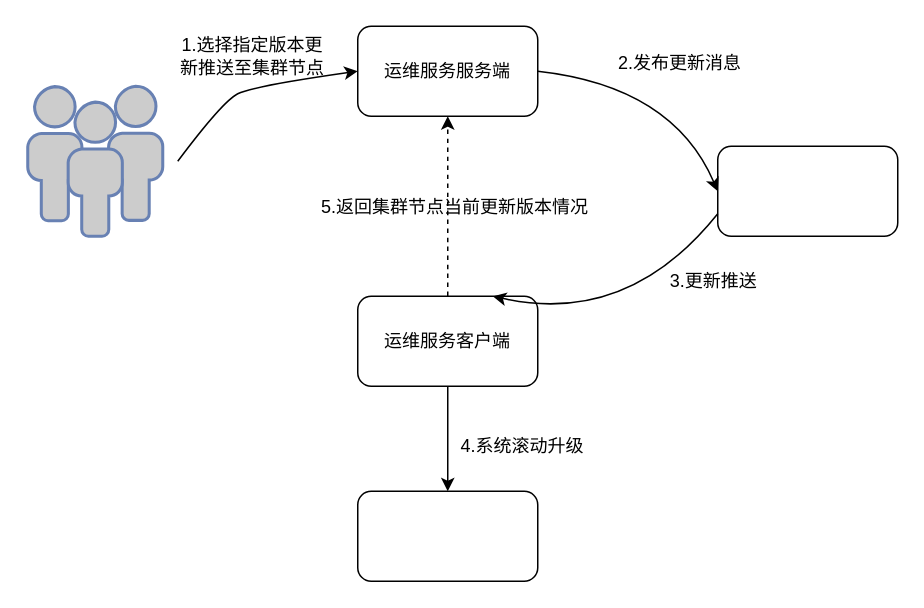
This 924x608 diagram has some shape labels left out. The shapes that lost their labels are listed below. From the top down, each one's centre as x and y in pixels, then its label:
pixel 807 190: 消息中间件
pixel 447 535: 集群节点
